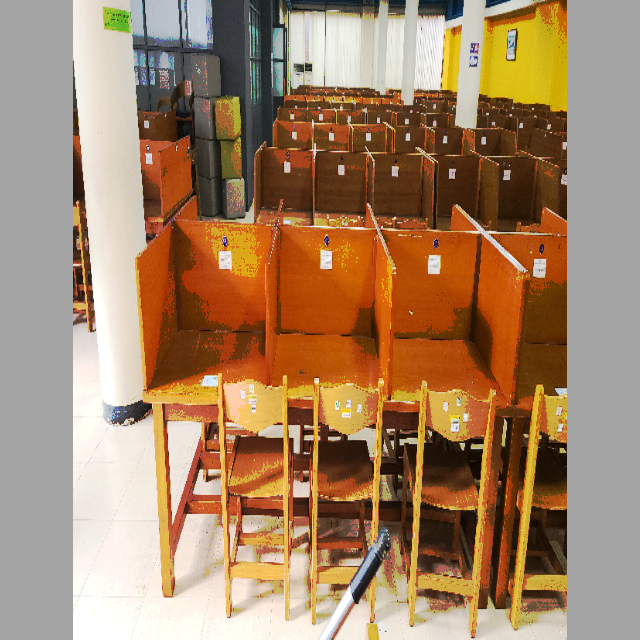empty: (397, 214, 520, 459), (138, 235, 269, 456), (274, 229, 393, 454)
